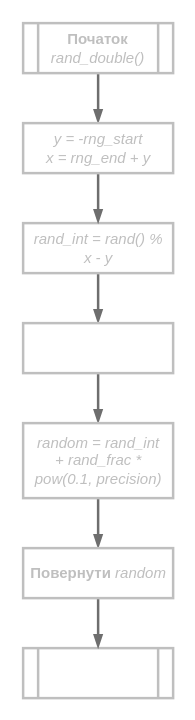
Image size: 195x720. Some labels were removed from this diagram. The shapes that lost their labels are listed below. From the top down, each one's centre as x and y in pixels, then its label:
At point 97,347: "rand_frac = rand() % int(pow(10, precision))".
At point 97,672: "Кінець rand_double ()".
